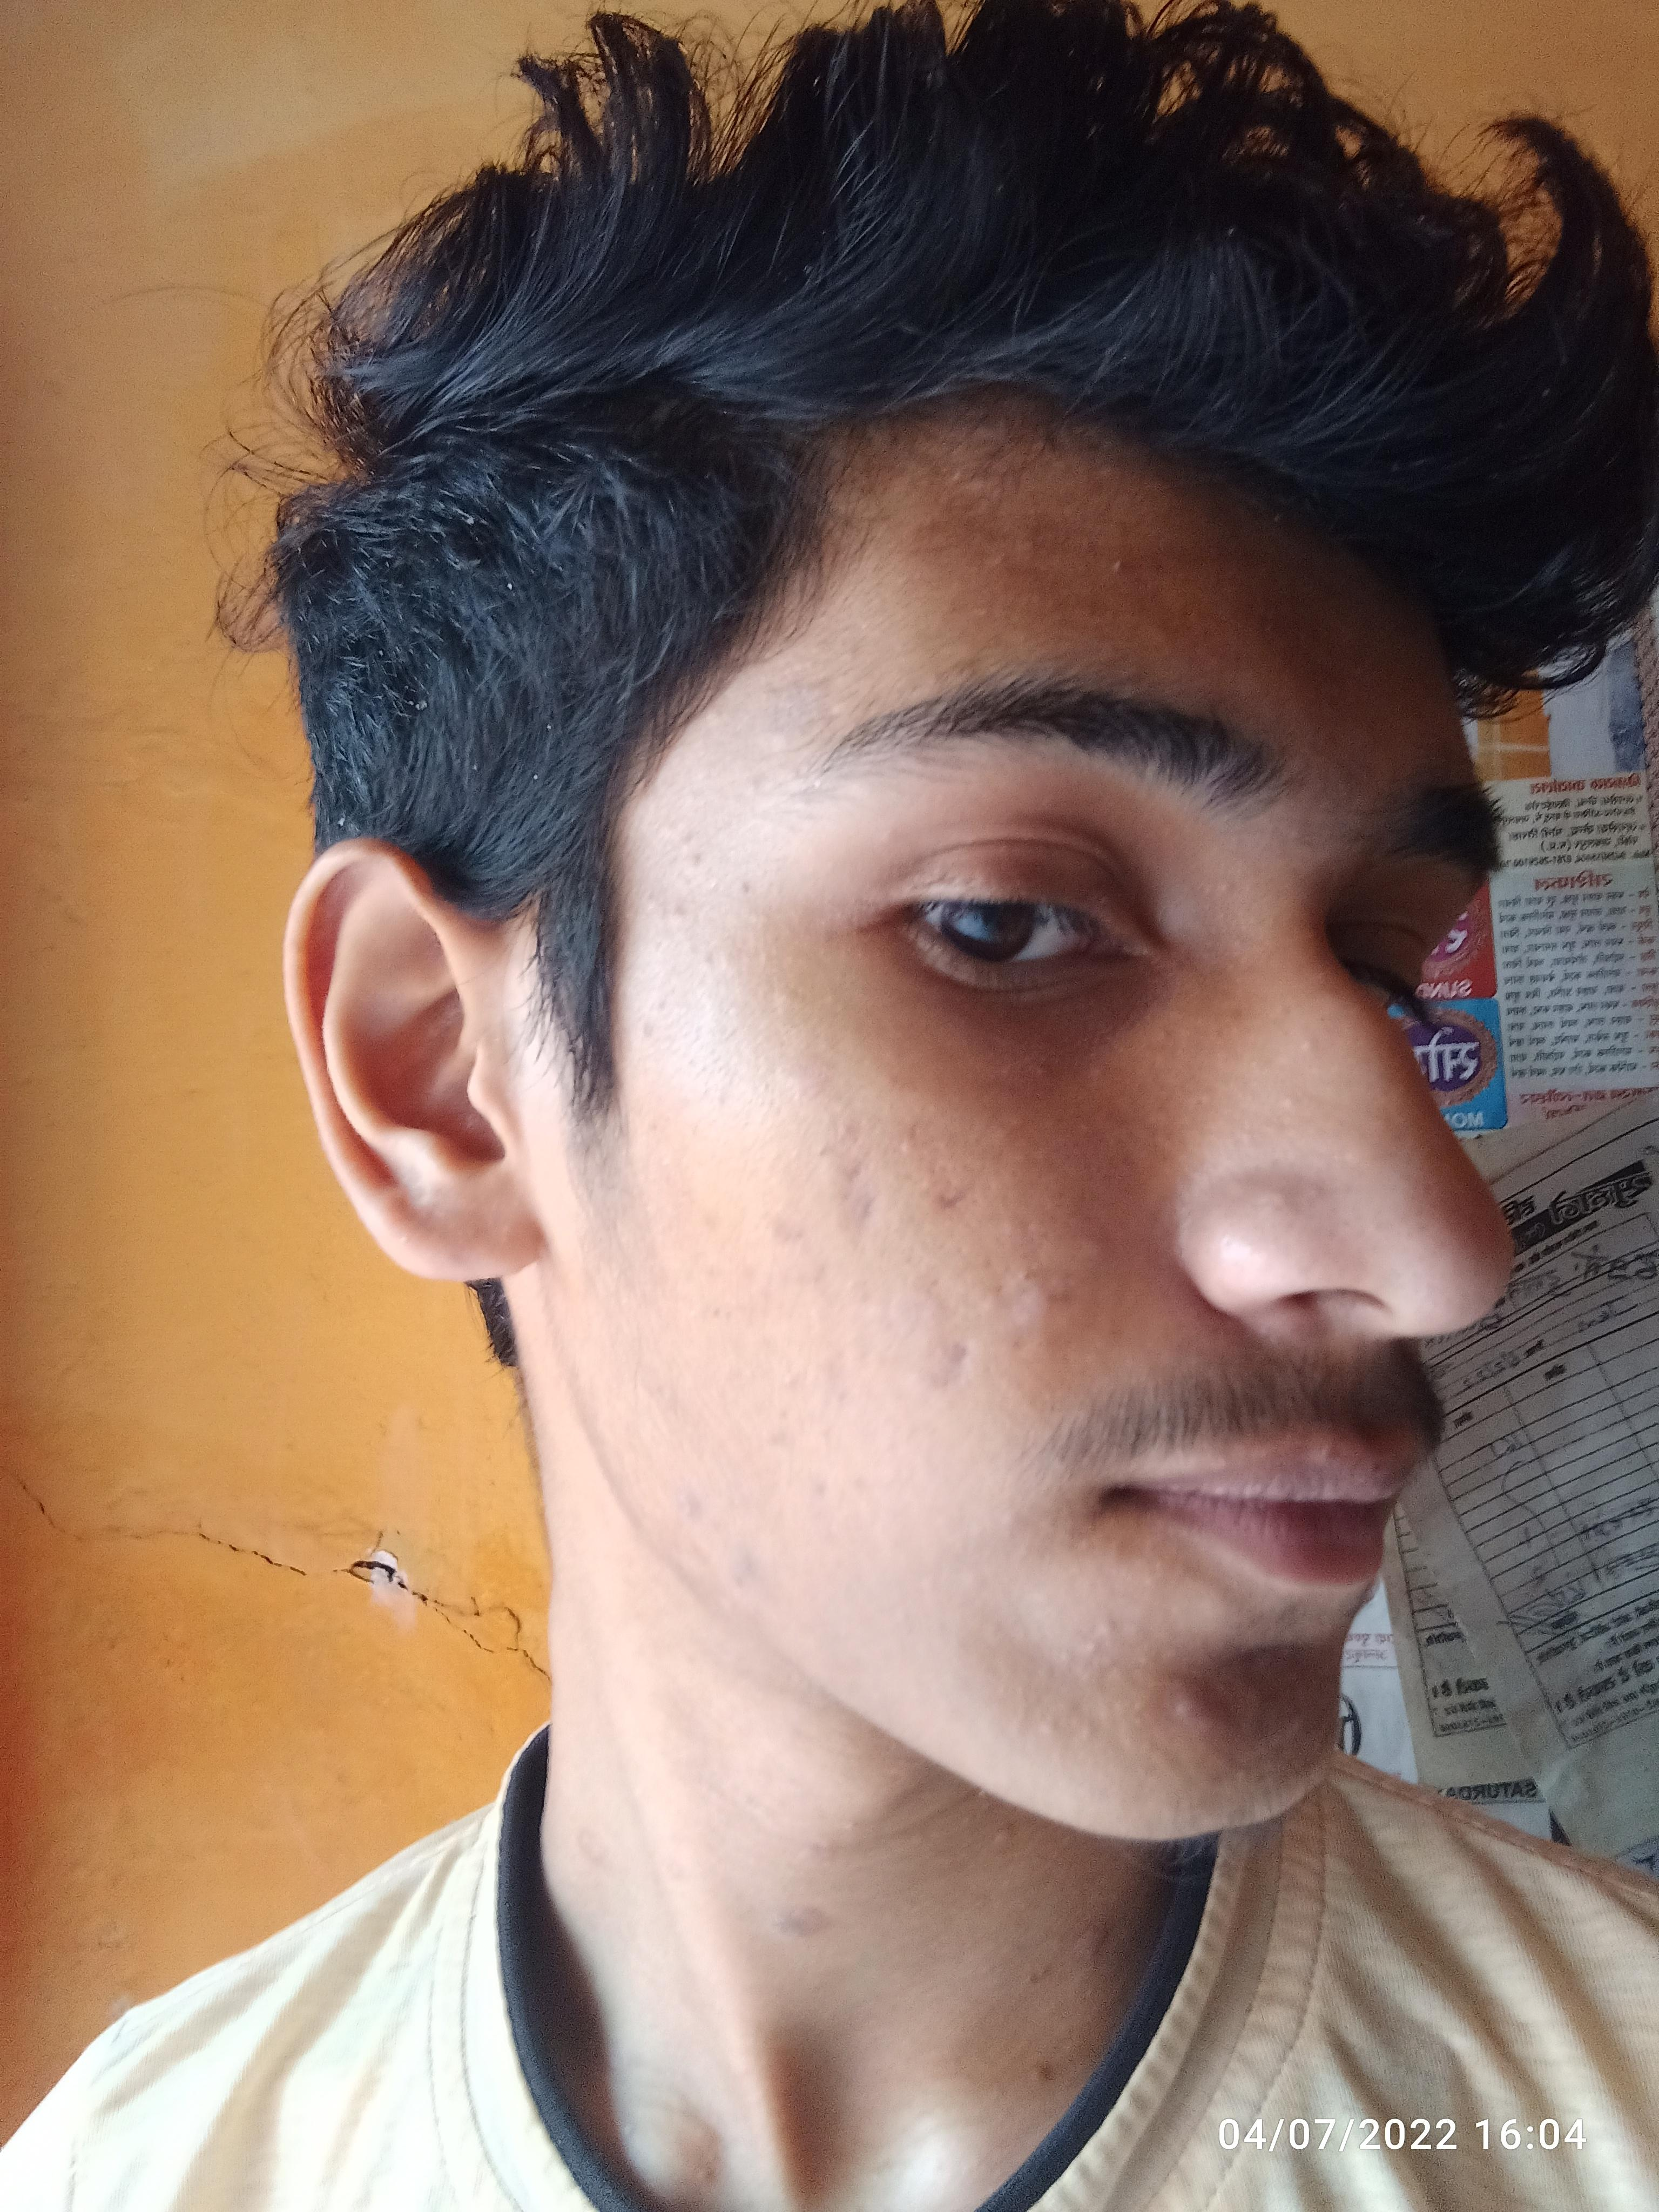Acne: (809, 1118, 880, 1235), (990, 1268, 1084, 1327), (901, 1334, 985, 1379), (920, 1174, 993, 1219), (817, 1339, 857, 1413), (1159, 1689, 1209, 1731), (720, 1541, 770, 1581), (758, 1211, 805, 1245), (673, 1491, 711, 1524), (762, 1425, 793, 1449)
